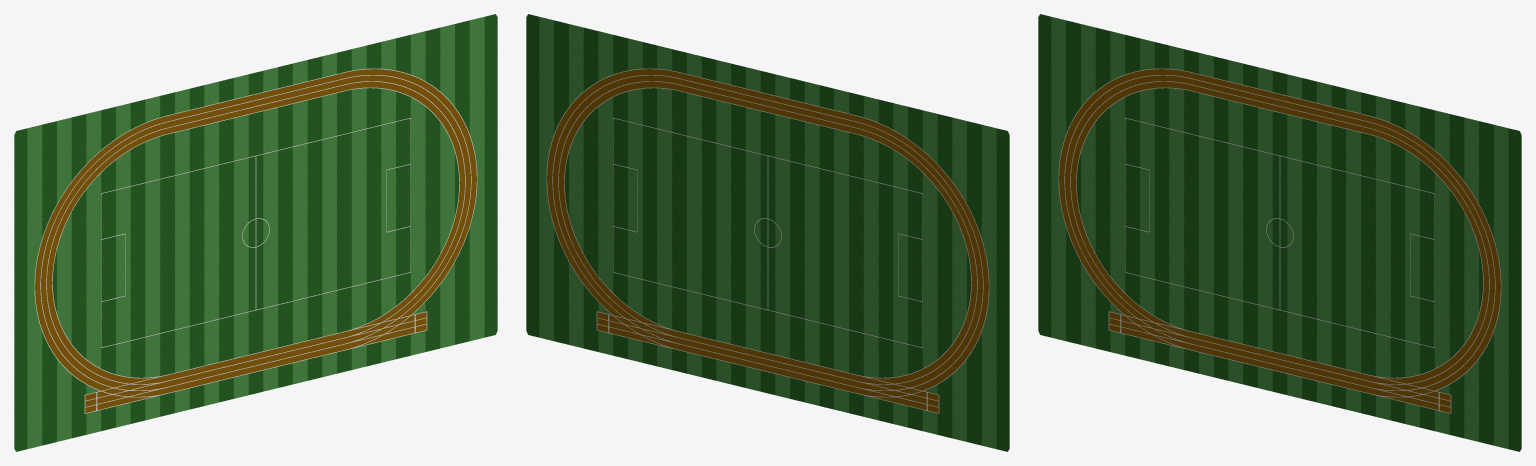
File: stadium.obj
3 renders of one model, left to right at view 1: azimuth 30°, elevation 25°; view 2: azimuth 150°, elevation 25°; view 3: azimuth 330°, elevation 25°, orthographic.
Visible parts, largest first — view 1: stadium_grass, stadium_dirt, stadium_white; view 2: stadium_grass, stadium_dirt, stadium_white; view 3: stadium_grass, stadium_dirt, stadium_white.
Boxes of the visible parts, x1,y1,x2,y2 form: stadium_grass: [14, 14, 497, 451]; stadium_dirt: [35, 69, 476, 412]; stadium_white: [34, 68, 477, 413]; stadium_grass: [526, 14, 1009, 451]; stadium_dirt: [547, 69, 988, 412]; stadium_white: [546, 68, 989, 413]; stadium_grass: [1038, 14, 1521, 451]; stadium_dirt: [1059, 69, 1500, 412]; stadium_white: [1058, 68, 1501, 413].
Bounding box in the file's own units: 82 × 52 × 0.
